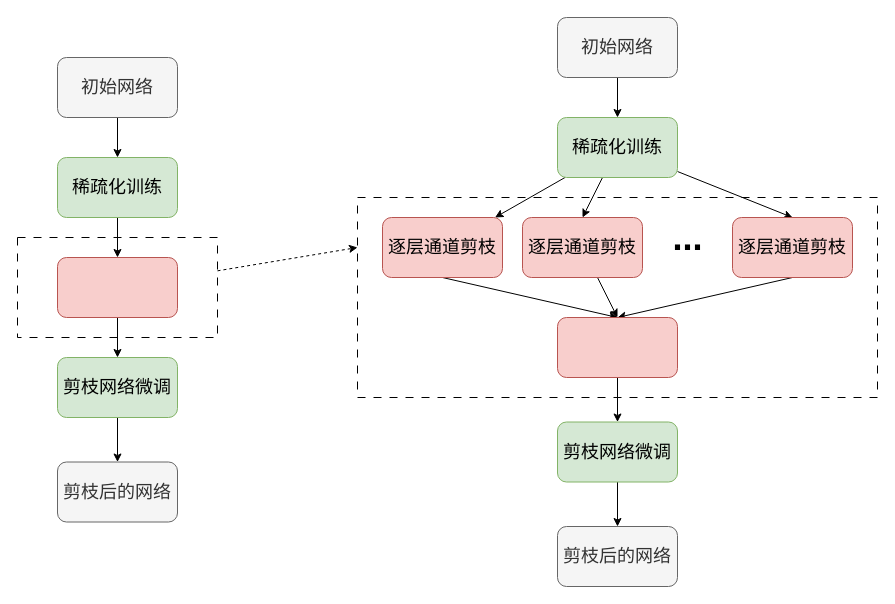
This 895x604 diagram has some shape labels left out. Here are the shapes that lost their labels. From the top down, the box of each, then its label:
(56, 256, 178, 318): 全局通道剪枝
(556, 316, 678, 378): 选出性能 最佳网络
